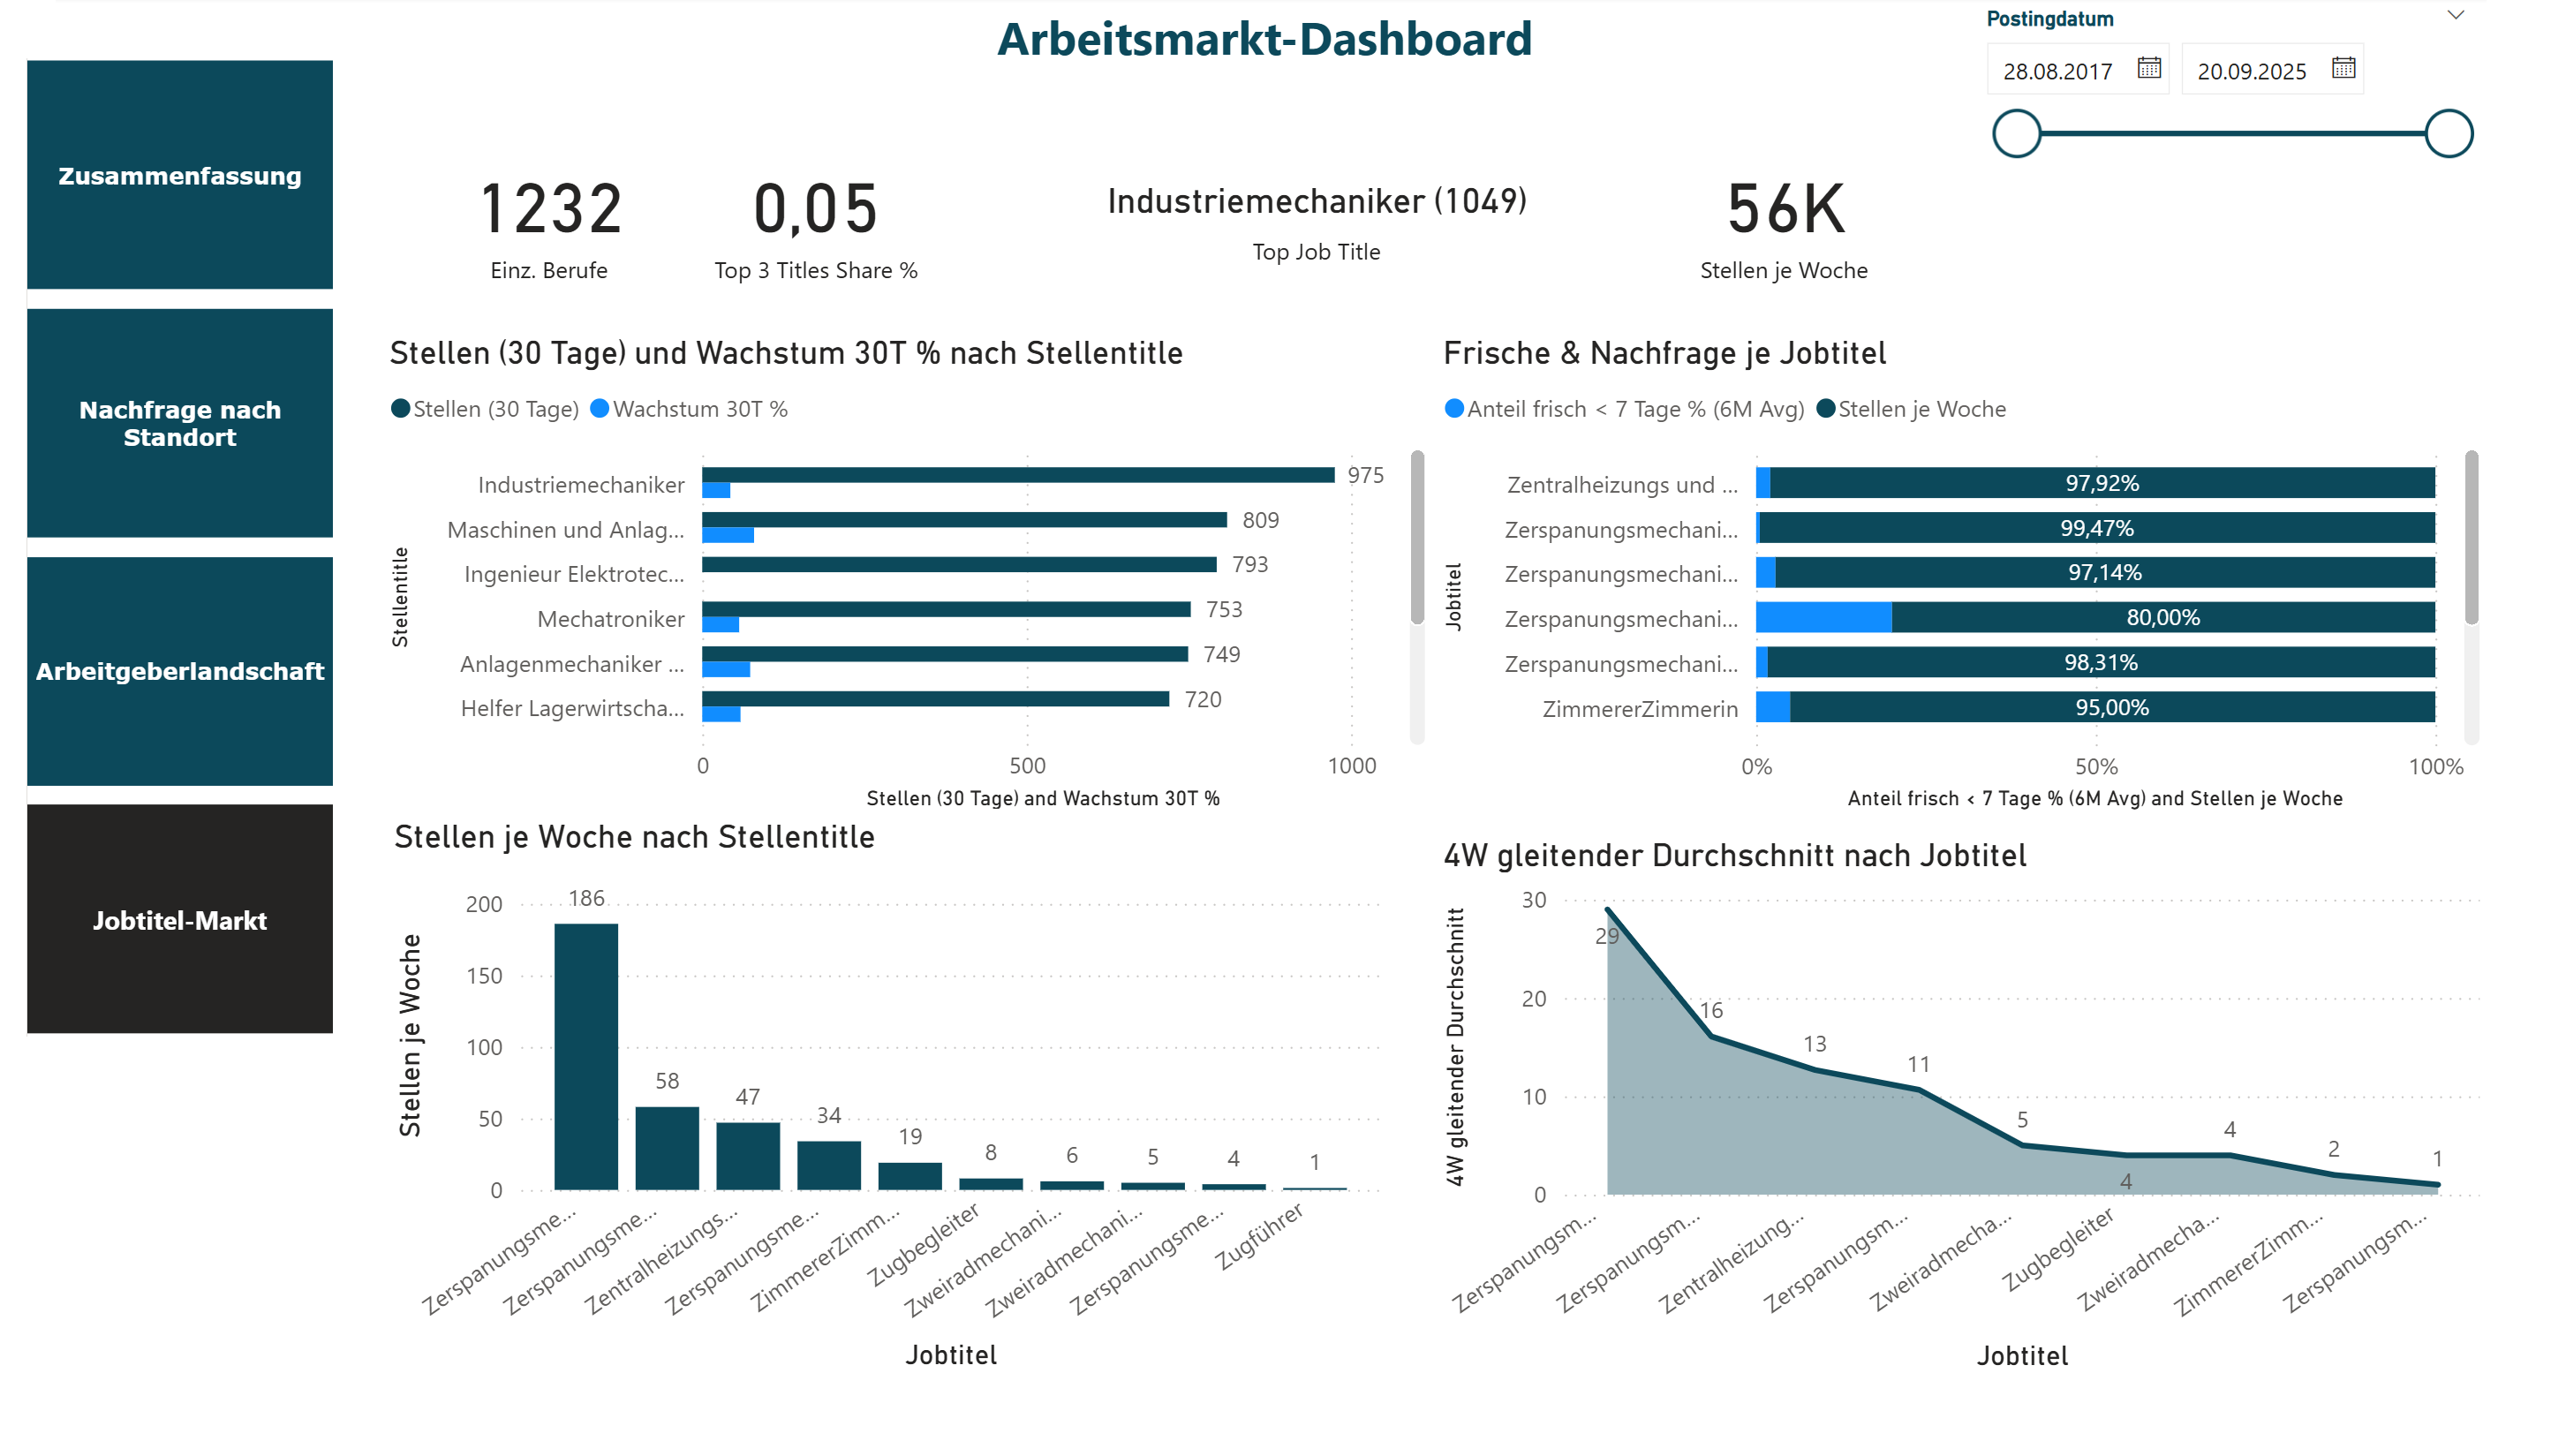

The dashboard page shown, as its layout file describes it:
{"tool":"powerbi","page":{"name":"Jobtitel-Markt","canvas":[1280,720],"ordinal":3},"visuals":[{"type":"pageNavigator","box":[0,33.7,159.9,506.2],"z":0},{"type":"textbox","box":[418.2,0,451.8,41.8],"z":1000},{"type":"hundredPercentStackedBarChart","title":"Frische & Nachfrage je Jobtitel","fields":{"Category":["bamberg_jobs_enriched.Stellentitle"],"Y":["Date.Anteil frisch < 7 Tage % (6M Avg)","Date.Stellen je Woche"]},"box":[731.1,176,548.8,252.3],"z":2000},{"type":"columnChart","title":"Stellen je Woche nach Stellentitle","fields":{"Category":["bamberg_jobs_enriched.Stellentitle"],"Y":["Date.Stellen je Woche"]},"box":[185.5,427.8,522.8,292],"z":3000},{"type":"areaChart","title":"4W gleitender Durchschnitt nach Jobtitel","fields":{"Category":["bamberg_jobs_enriched.Stellentitle"],"Y":["Date.4W gleitender Durchschnitt"]},"box":[731.1,437.1,548.8,282.8],"z":4000},{"type":"clusteredBarChart","title":"Stellen (30 Tage) und Wachstum 30T % nach Stellentitle","fields":{"Category":["bamberg_jobs_enriched.Stellentitle"],"Y":["Date.Stellen (30 Tage)","Date.Wachstum 30T %"]},"box":[182.8,175.7,548.5,252.1],"z":5000},{"type":"card","fields":{"Values":["bamberg_jobs_enriched.Top 3 Titles Share %"]},"box":[339.1,67.5,142,95],"z":6000},{"type":"card","fields":{"Values":["bamberg_jobs_enriched.Top Job Title (Name + Count)"]},"box":[497.9,67.5,344.4,95],"z":7000},{"type":"card","fields":{"Values":["bamberg_jobs_enriched.Einz. Berufe"]},"box":[203.3,67.5,135.8,95],"z":8000},{"type":"slicer","fields":{"Values":["bamberg_jobs_enriched.Postingdatum"]},"box":[1005.6,0,274.3,101.2],"z":9000},{"type":"card","fields":{"Values":["Date.Stellen je Woche"]},"box":[842.3,70.1,142.9,89.6],"z":10000}]}

Visuals, with their boxes in screenshot pixels (x1, y1, x2, y2), scaled from the page's 1280x720 canvas onto the 2566x1456 screenshot:
pageNavigator: {"left": 0, "top": 68, "right": 321, "bottom": 1092}
textbox: {"left": 838, "top": 0, "right": 1744, "bottom": 85}
"Frische & Nachfrage je Jobtitel" hundredPercentStackedBarChart: {"left": 1466, "top": 356, "right": 2565, "bottom": 866}
"Stellen je Woche nach Stellentitle" columnChart: {"left": 372, "top": 865, "right": 1420, "bottom": 1455}
"4W gleitender Durchschnitt nach Jobtitel" areaChart: {"left": 1466, "top": 884, "right": 2565, "bottom": 1455}
"Stellen (30 Tage) und Wachstum 30T % nach Stellentitle" clusteredBarChart: {"left": 366, "top": 355, "right": 1466, "bottom": 865}
card - bamberg_jobs_enriched.Top 3 Titles Share %: {"left": 680, "top": 137, "right": 964, "bottom": 328}
card - bamberg_jobs_enriched.Top Job Title (Name + Count): {"left": 998, "top": 137, "right": 1688, "bottom": 328}
card - bamberg_jobs_enriched.Einz. Berufe: {"left": 408, "top": 137, "right": 680, "bottom": 328}
slicer - bamberg_jobs_enriched.Postingdatum: {"left": 2016, "top": 0, "right": 2565, "bottom": 205}
card - Date.Stellen je Woche: {"left": 1688, "top": 142, "right": 1975, "bottom": 323}
